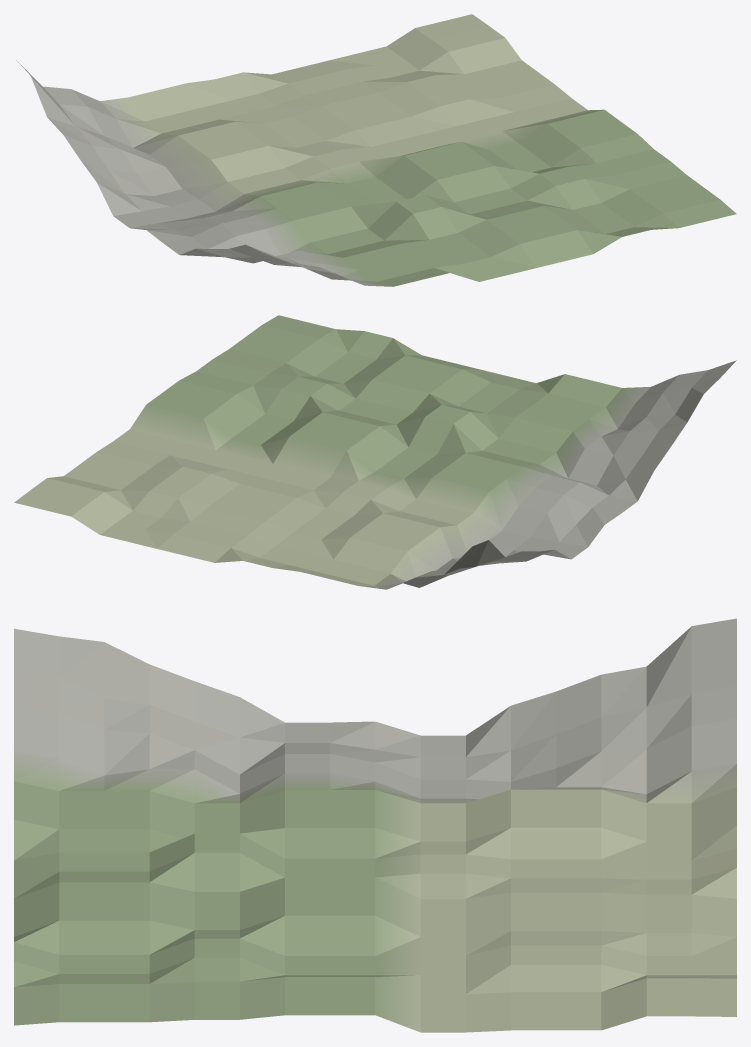
3 views of the same model, one above another, from view 1: azimuth 30°, elevation 25°; view 2: azimuth 150°, elevation 25°; view 3: azimuth 270°, elevation 25° (orthographic). The views are drawn at different scales.
Bounding box in the file's own units: 32 × 6.12 × 32.
